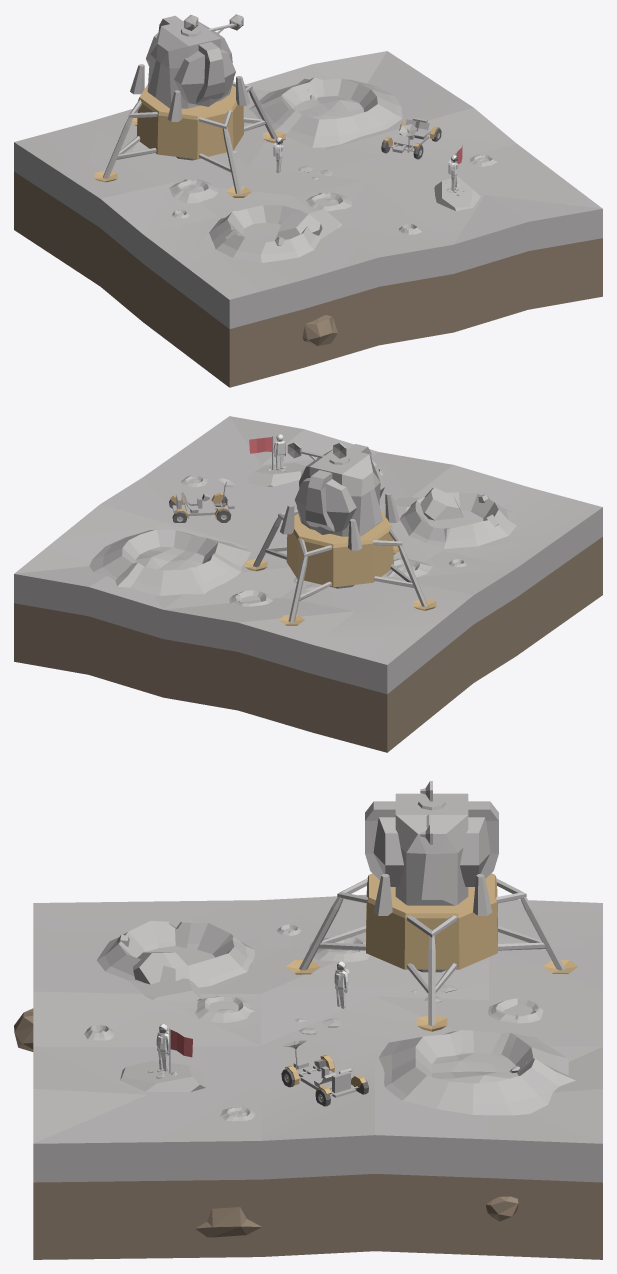
Rendered from Space.glb.
3 renders of one model, top to bottom at view 1: azimuth 30°, elevation 25°; view 2: azimuth 150°, elevation 25°; view 3: azimuth 270°, elevation 25°, orthographic. The views are drawn at different scales.
Parts seen in each view (by area): view 1: world-field (3), rocket-module, crater-big, crater-deep (1), lunar-rover, stone-diamond, crater-big (1), stone-round, stone-diamond (1), crater-big (2); view 2: world-field (3), rocket-module, crater-big, crater-deep (1), lunar-rover, stone-diamond (1), stone-diamond, crater-big (1), crater-deep (2); view 3: world-field (3), rocket-module, crater-big, crater-deep (1), lunar-rover, stone-diamond, stone-round (3), stone-diamond (2), stone-diamond (1), crater-big (2), crater-deep (2), crater-big (1) (+2 smaller).
Boxes of the visible parts, bbox=[...] form: world-field (3): bbox=[14, 51, 602, 387]; rocket-module: bbox=[94, 14, 285, 197]; crater-big: bbox=[249, 77, 402, 147]; crater-deep (1): bbox=[209, 205, 321, 262]; lunar-rover: bbox=[381, 117, 441, 159]; stone-diamond: bbox=[434, 176, 480, 210]; crater-big (1): bbox=[169, 179, 218, 203]; stone-round: bbox=[302, 315, 337, 345]; stone-diamond (1): bbox=[275, 212, 322, 239]; crater-big (2): bbox=[306, 193, 352, 211]; world-field (3): bbox=[14, 416, 602, 752]; rocket-module: bbox=[244, 442, 436, 625]; crater-big: bbox=[89, 529, 250, 595]; crater-deep (1): bbox=[400, 492, 516, 548]; lunar-rover: bbox=[169, 478, 234, 522]; stone-diamond (1): bbox=[420, 487, 463, 520]; stone-diamond: bbox=[247, 463, 306, 486]; crater-big (1): bbox=[385, 558, 432, 577]; crater-deep (2): bbox=[229, 590, 272, 606]; world-field (3): bbox=[33, 894, 602, 1259]; rocket-module: bbox=[286, 781, 577, 1031]; crater-big: bbox=[379, 1030, 575, 1115]; crater-deep (1): bbox=[96, 916, 254, 987]; lunar-rover: bbox=[281, 1040, 368, 1106]; stone-diamond: bbox=[120, 1061, 205, 1092]; stone-round (3): bbox=[195, 1207, 261, 1237]; stone-diamond (2): bbox=[128, 978, 201, 1001]; stone-diamond (1): bbox=[133, 952, 187, 984]; crater-big (2): bbox=[195, 996, 254, 1022]; crater-deep (2): bbox=[488, 998, 543, 1023]; crater-big (1): bbox=[309, 937, 370, 962].
Bounding box in the file's own units: 0.5081 × 0.3009 × 0.5172.
